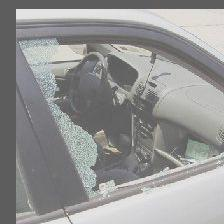glass_shatter: (25, 23, 223, 216)
